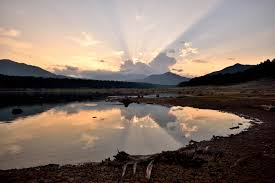lake: (4, 92, 249, 151)
mountain: (7, 64, 271, 94)
sky: (2, 2, 273, 67)
